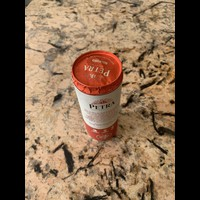petra: (67, 50, 126, 145)
